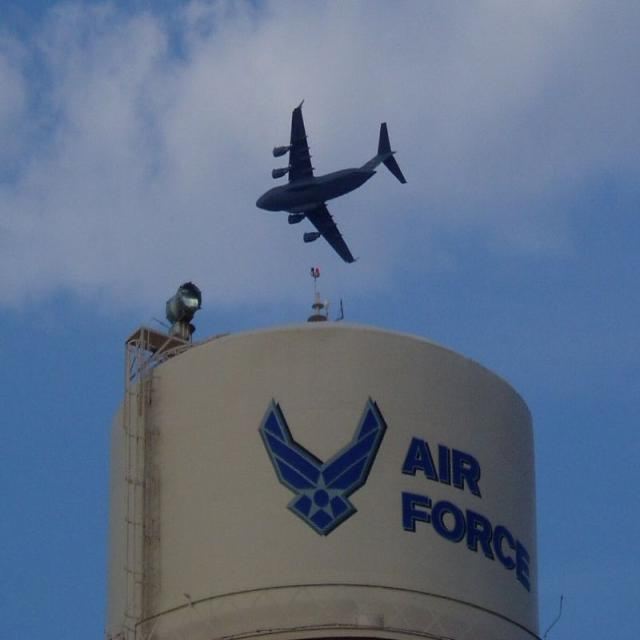MIL_Plane: (253, 98, 401, 263)
